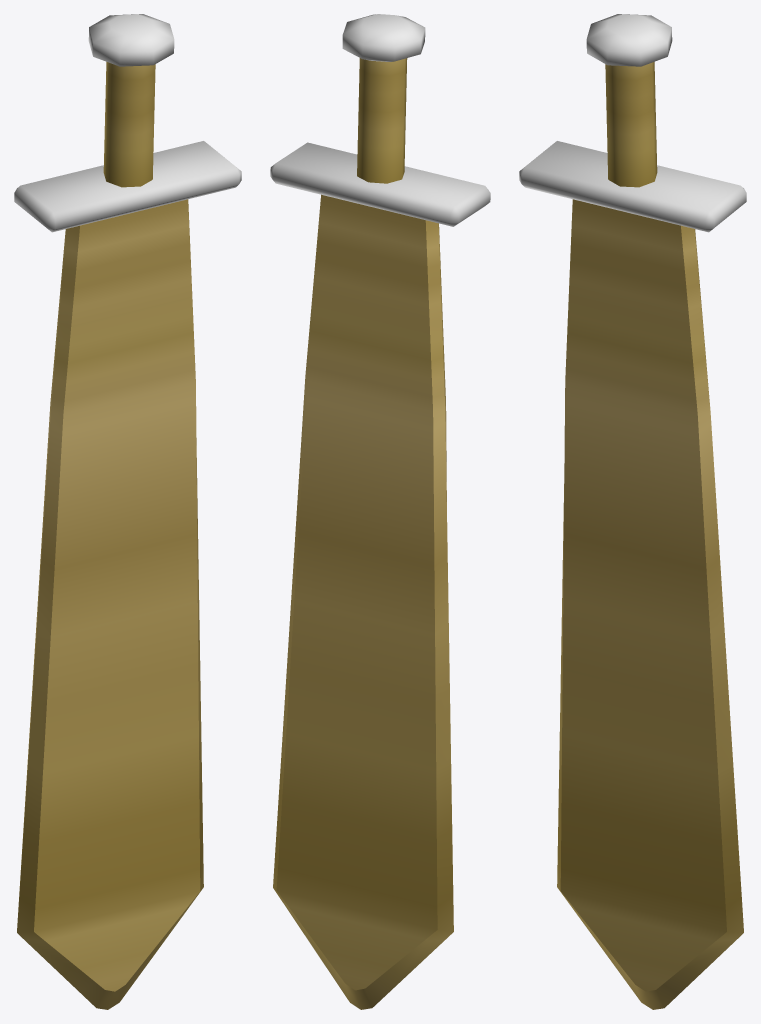
Rendered from hero_sword.fbx.
3 views of the same model, side by side, from view 1: azimuth 30°, elevation 25°; view 2: azimuth 150°, elevation 25°; view 3: azimuth 330°, elevation 25° (orthographic). The views are drawn at different scales.
Parts seen in each view (by area): view 1: sword_hero; view 2: sword_hero; view 3: sword_hero.
Part boxes in pixels (<box>): sword_hero: <box>14,14,241,1009</box>; sword_hero: <box>270,14,490,1009</box>; sword_hero: <box>519,14,746,1009</box>.
Size of the model in its own units: 21.16 by 104 by 9.75.
